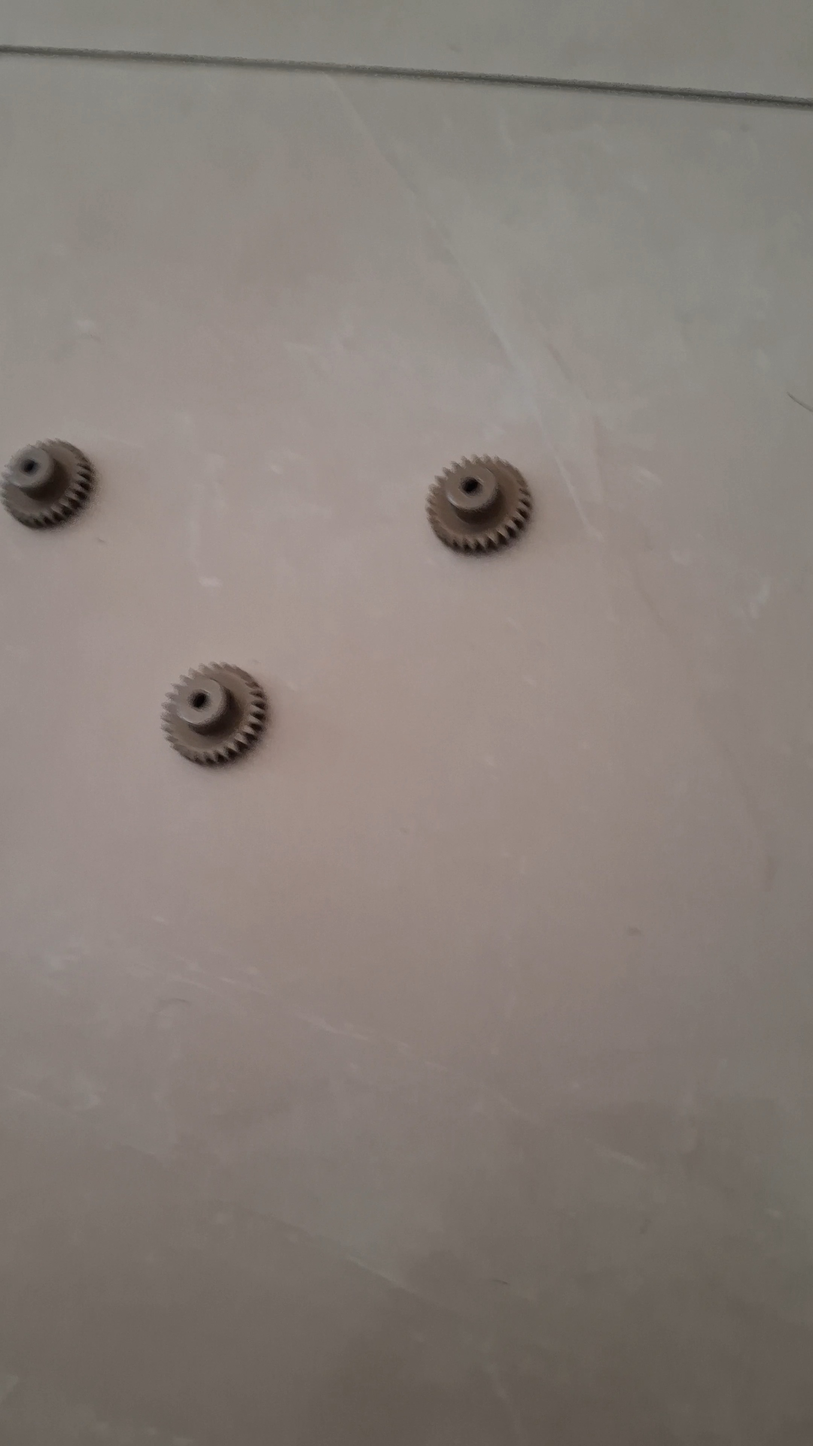spur gear: (163, 663, 267, 765), (427, 457, 531, 552), (3, 440, 93, 527)
